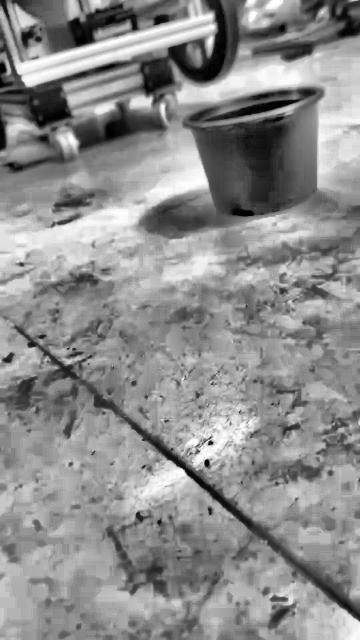pot: (183, 85, 324, 216)
